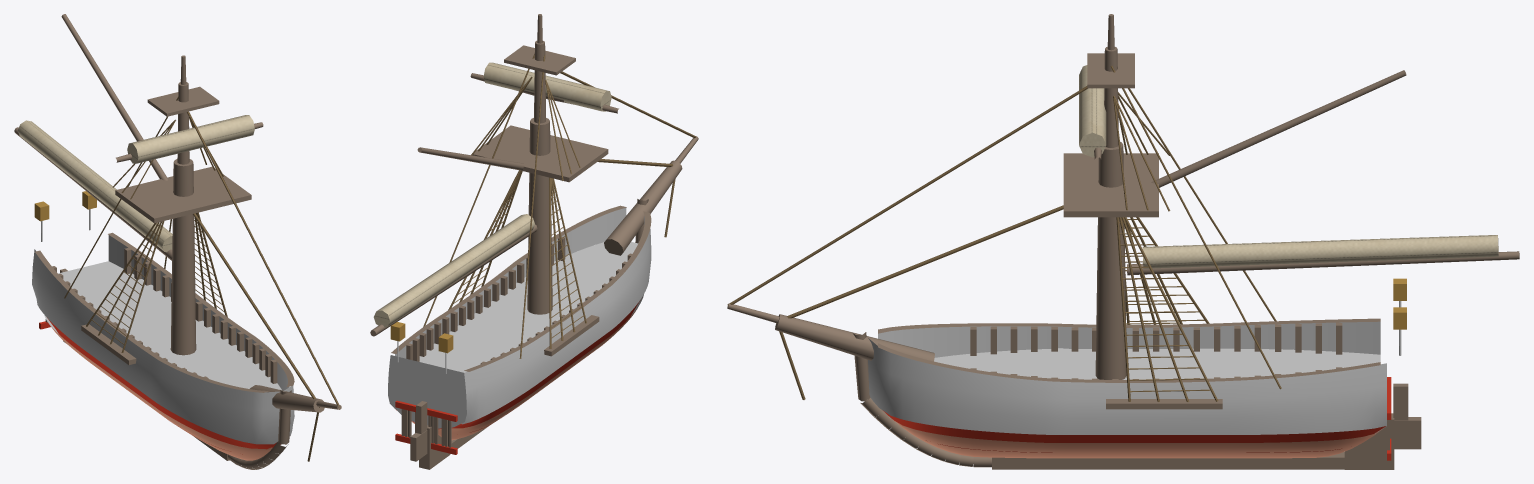
The model's file is SM_Art_Settlement_Harbour_2.gltf.
3 renders of one model, left to right at view 1: azimuth 30°, elevation 25°; view 2: azimuth 150°, elevation 25°; view 3: azimuth 270°, elevation 25°, orthographic. The views are drawn at different scales.
Visible parts, largest first — view 1: SM_Art_Settlement_Harbour_2; view 2: SM_Art_Settlement_Harbour_2; view 3: SM_Art_Settlement_Harbour_2.
Boxes of the visible parts, x1,y1,x2,y2 form: SM_Art_Settlement_Harbour_2: [14, 14, 341, 469]; SM_Art_Settlement_Harbour_2: [370, 14, 698, 469]; SM_Art_Settlement_Harbour_2: [727, 14, 1519, 469].
Size of the model in its own units: 3.92 by 9.41 by 14.94.
